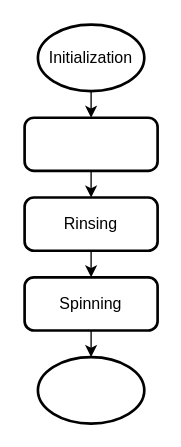
Image size: 181x447. Some labels were removed from this diagram. The shapes that lost their labels are listed below. From the top down, each one's centre as x and y in pixels, then its label:
At (90,144): "Washing".
At (90,389): "Finished".
